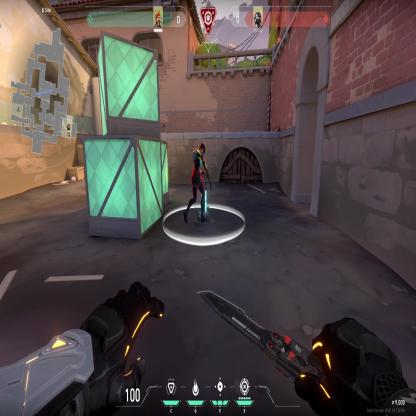enemy: (182, 140, 206, 226)
